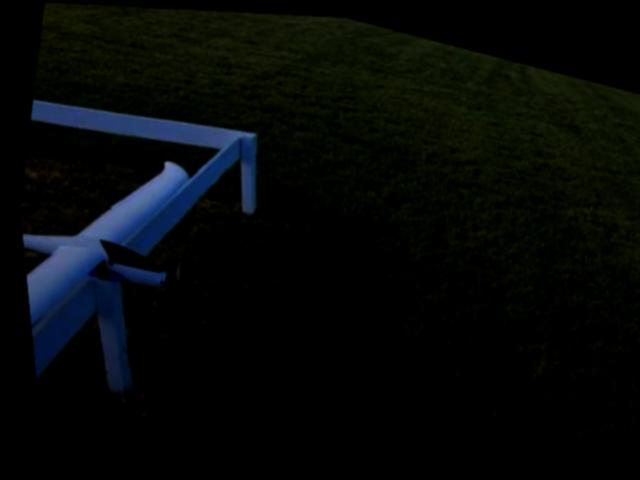iha: (9, 117, 210, 449)
